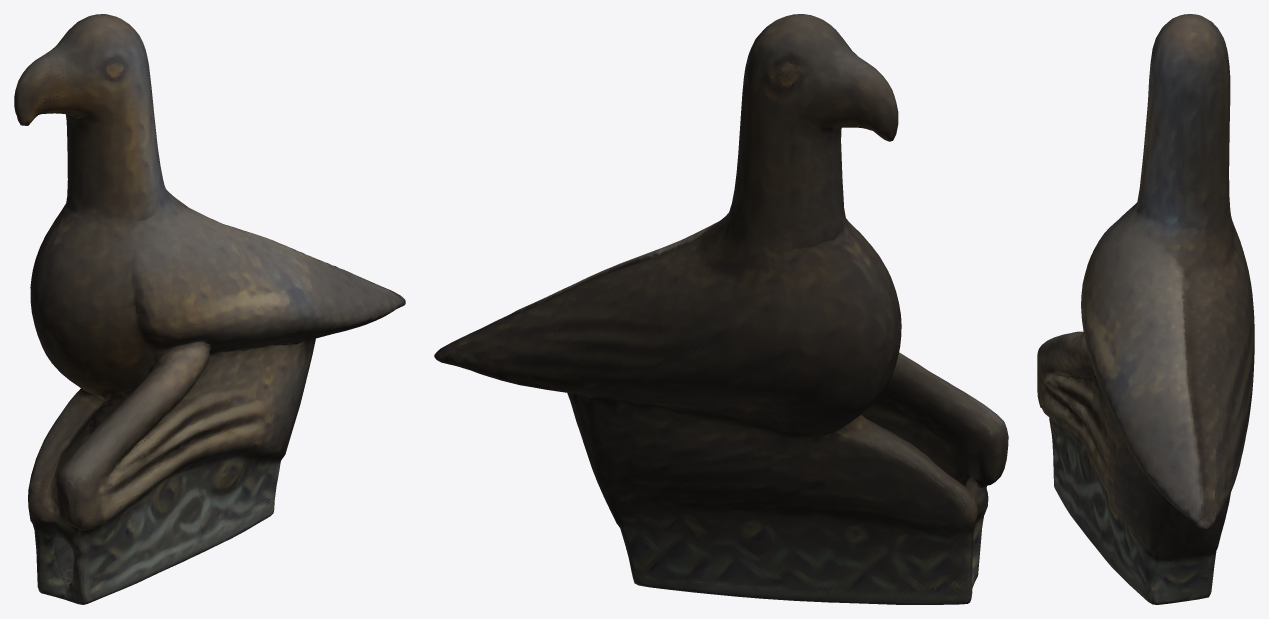
The model's file is sculpt.glb.
3 renders of one model, left to right at view 1: azimuth 30°, elevation 25°; view 2: azimuth 150°, elevation 25°; view 3: azimuth 270°, elevation 25°, orthographic. The views are drawn at different scales.
Visible parts, largest first — view 1: mesh; view 2: mesh; view 3: mesh.
Part boxes in pixels (box(x1,y1,x2,y2)): mesh: box(14, 14, 405, 604); mesh: box(434, 14, 1008, 604); mesh: box(1037, 14, 1254, 604).
Size of the model in its own units: 0.364 by 0.4289 by 0.1643.
Materials: 1 (1 with a texture image).
